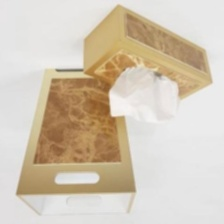plastic_box: (10, 63, 143, 224), (76, 0, 217, 107)
tissue: (101, 62, 186, 126)
